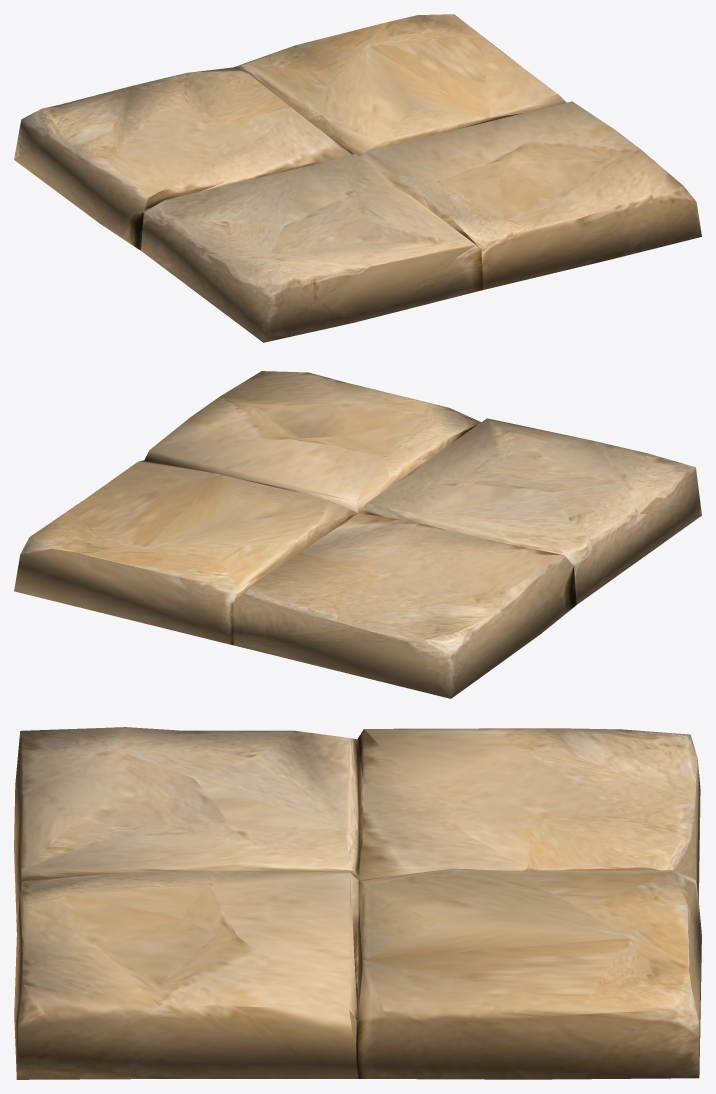
File: paving_lod2.glb
3 renders of one model, top to bottom at view 1: azimuth 30°, elevation 25°; view 2: azimuth 150°, elevation 25°; view 3: azimuth 270°, elevation 25°, orthographic. The views are drawn at different scales.
Visible parts, largest first — view 1: paving_lod2; view 2: paving_lod2; view 3: paving_lod2.
Boxes of the visible parts, x1=… form: paving_lod2: x1=14, y1=14, x2=701, y2=342; paving_lod2: x1=14, y1=371, x2=701, y2=698; paving_lod2: x1=14, y1=727, x2=701, y2=1079.
Size of the model in its own units: 0.9865 by 0.1169 by 0.9847.
1 material, 1 textured.
